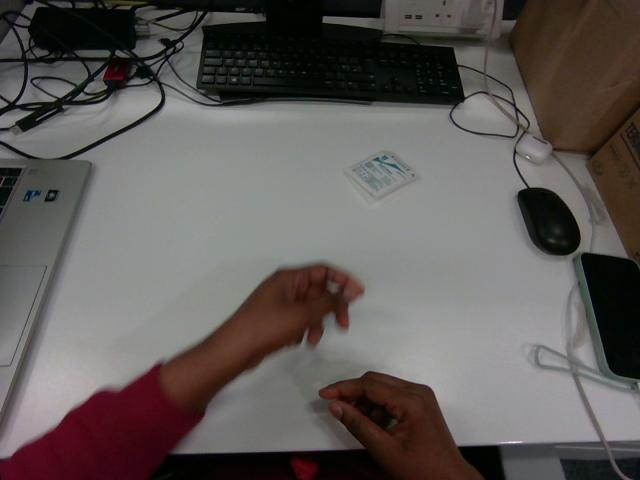gauze: (344, 151, 418, 202)
